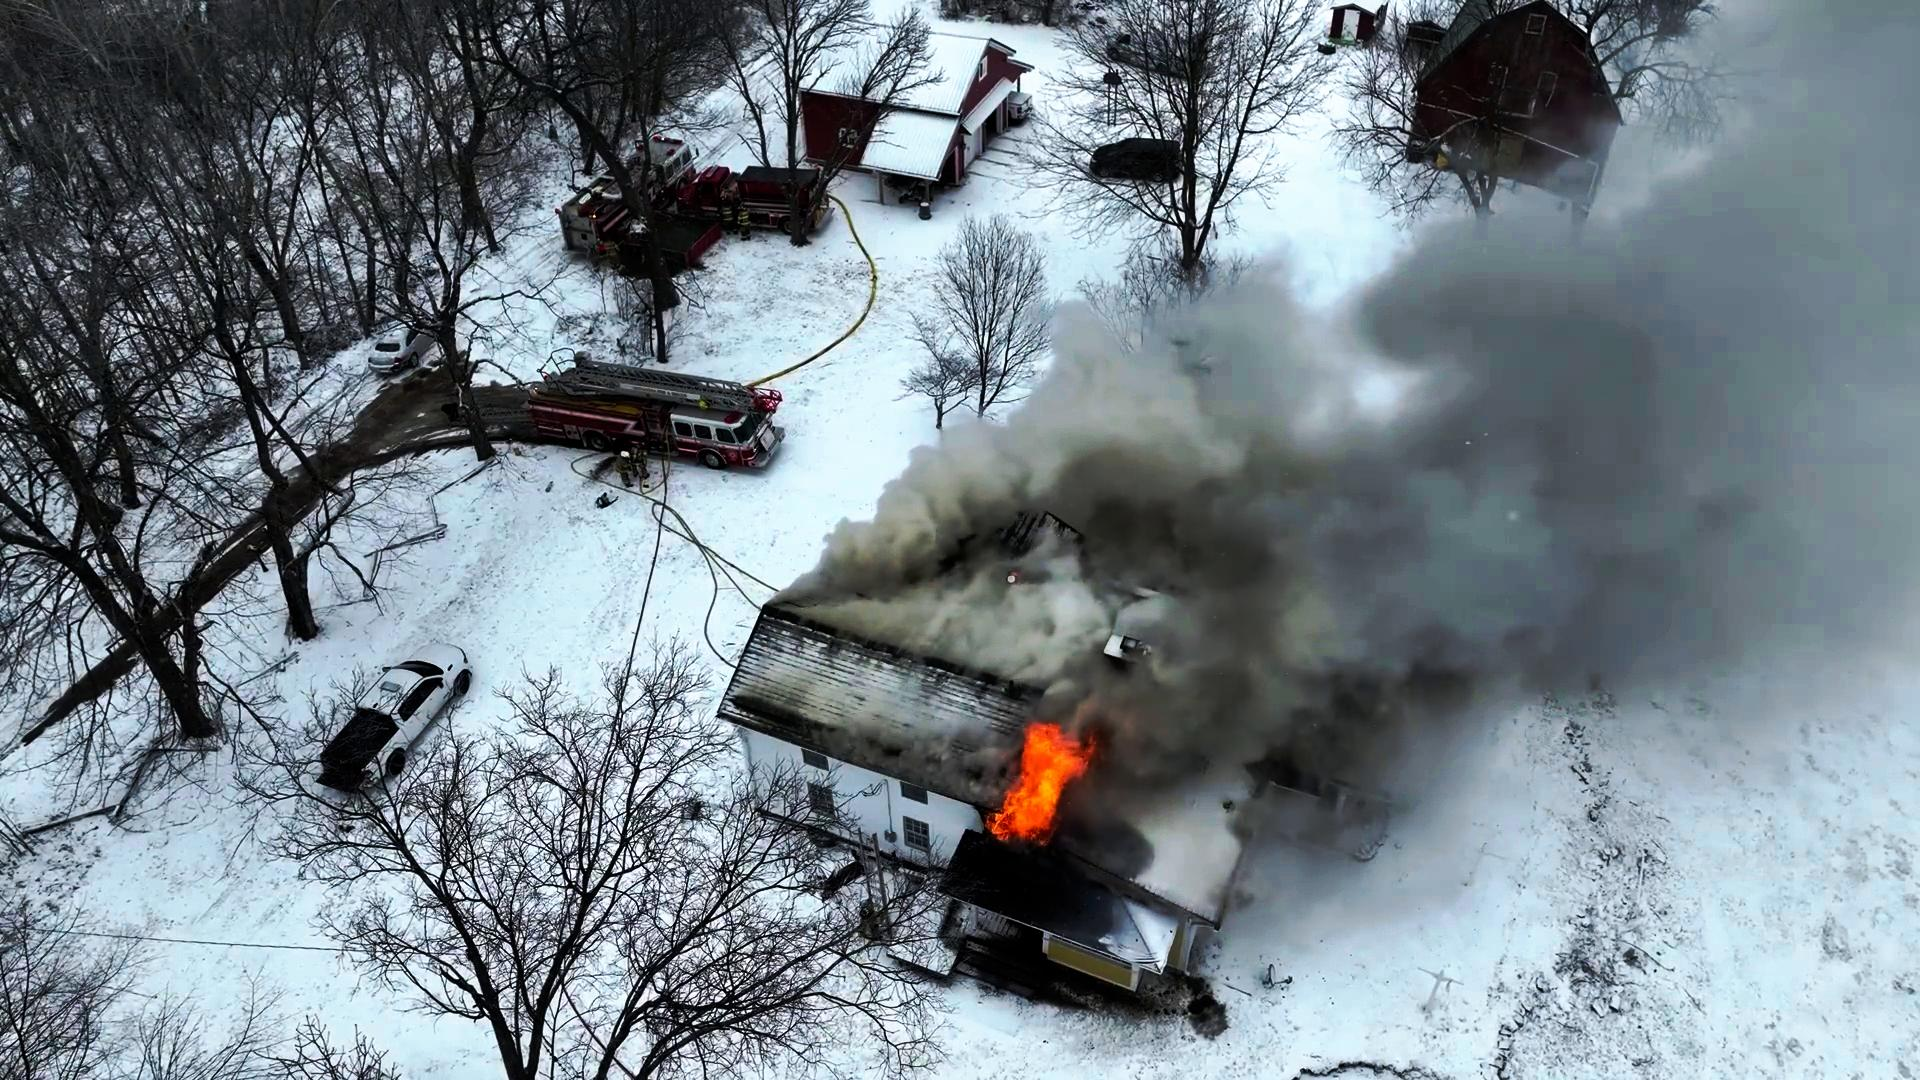fire: (985, 695, 1089, 864)
smoke: (1121, 351, 1652, 684)
